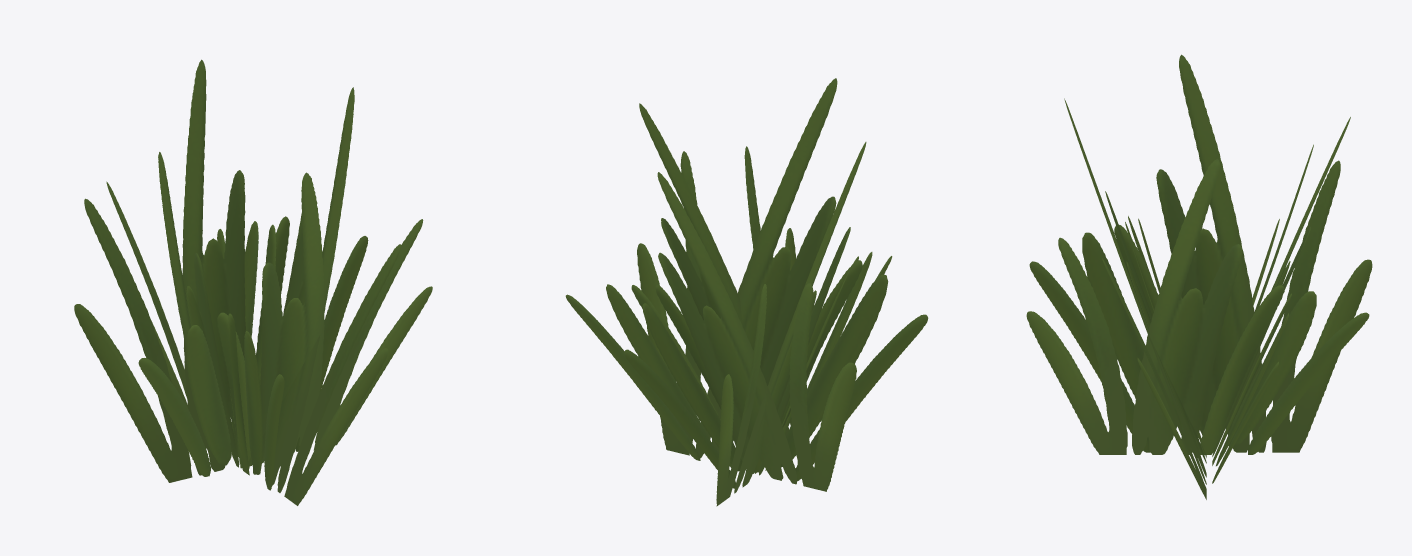
File: Rocks_Grass1.fbx
3 renders of one model, left to right at view 1: azimuth 30°, elevation 25°; view 2: azimuth 150°, elevation 25°; view 3: azimuth 270°, elevation 25°, orthographic. The views are drawn at different scales.
Visible parts, largest first — view 1: Rocks_Grass1_LOD0; view 2: Rocks_Grass1_LOD0; view 3: Rocks_Grass1_LOD0.
Part boxes in pixels (x1,y1,x2,y2): Rocks_Grass1_LOD0: (74,59,432,505); Rocks_Grass1_LOD0: (565,78,928,506); Rocks_Grass1_LOD0: (1026,54,1372,499).
Size of what is drawn, in the model's own units: 56.75 by 58.46 by 57.86.
